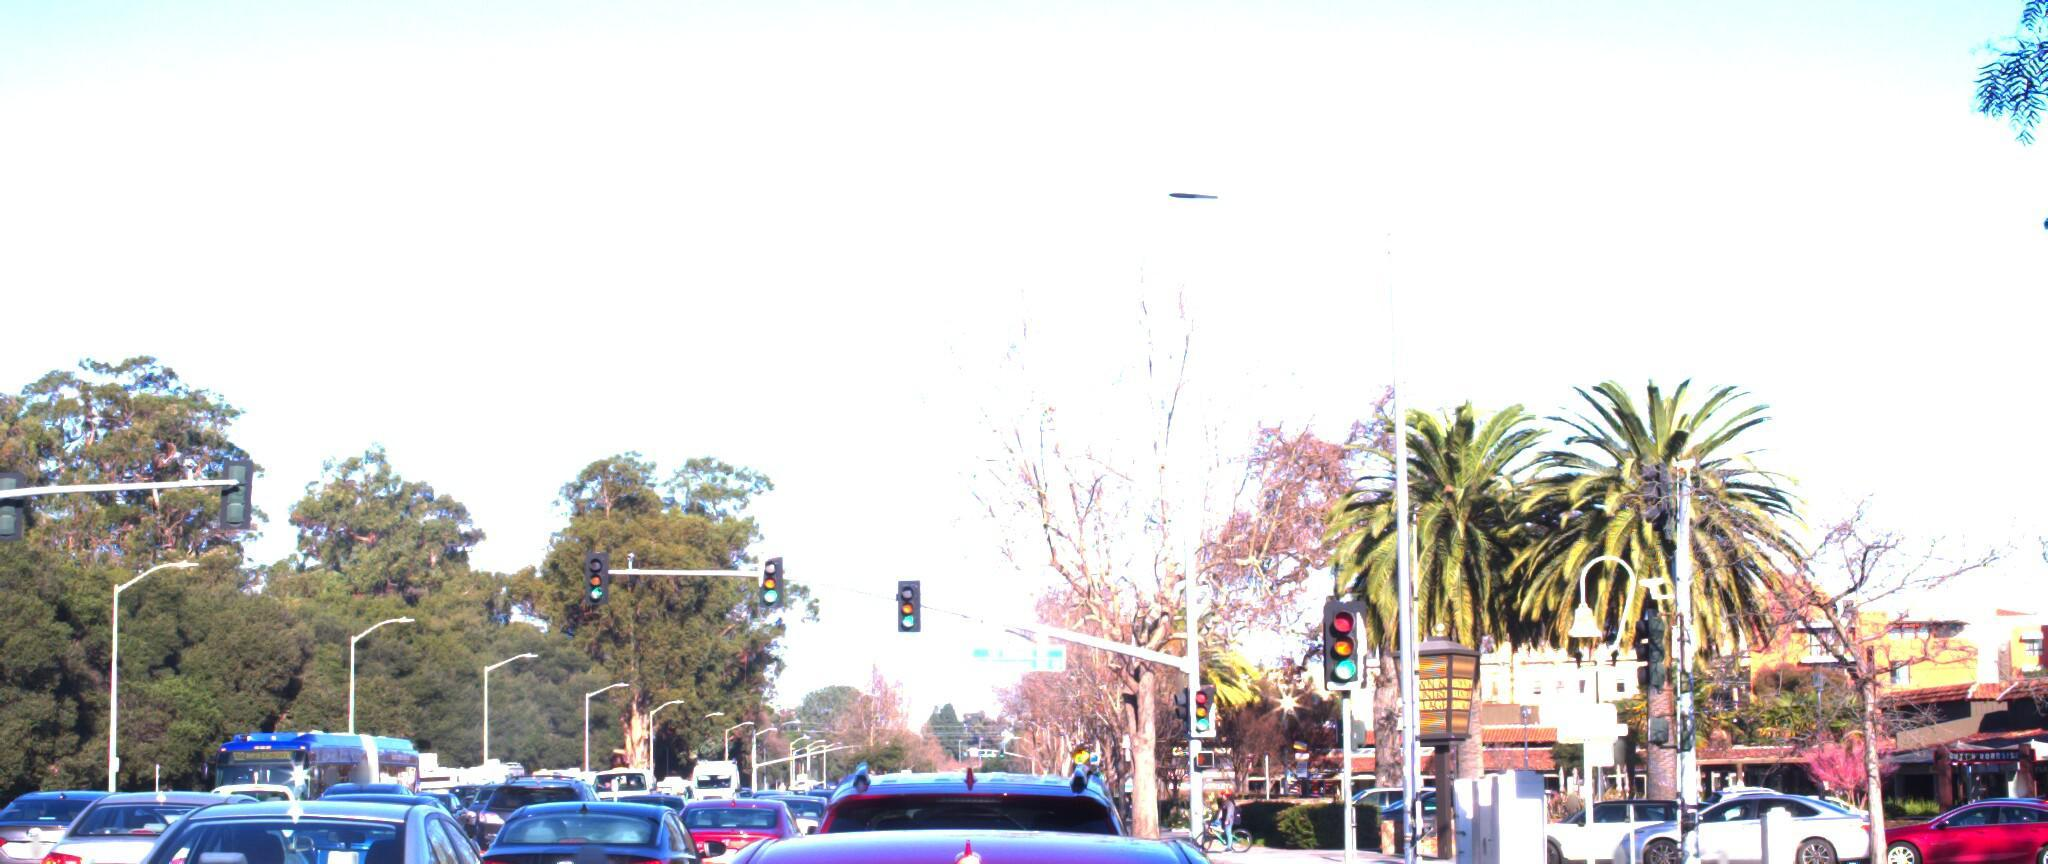bicycle: (1196, 762, 1260, 834)
car: (488, 787, 1398, 864), (772, 737, 1189, 864), (74, 778, 558, 864), (27, 741, 349, 864), (0, 720, 216, 864), (470, 750, 731, 864), (1599, 766, 1885, 854), (1840, 775, 2048, 857), (180, 749, 353, 841), (674, 764, 829, 864), (462, 778, 607, 864), (0, 779, 111, 864), (0, 726, 51, 864), (2000, 771, 2048, 857), (0, 764, 18, 843)
